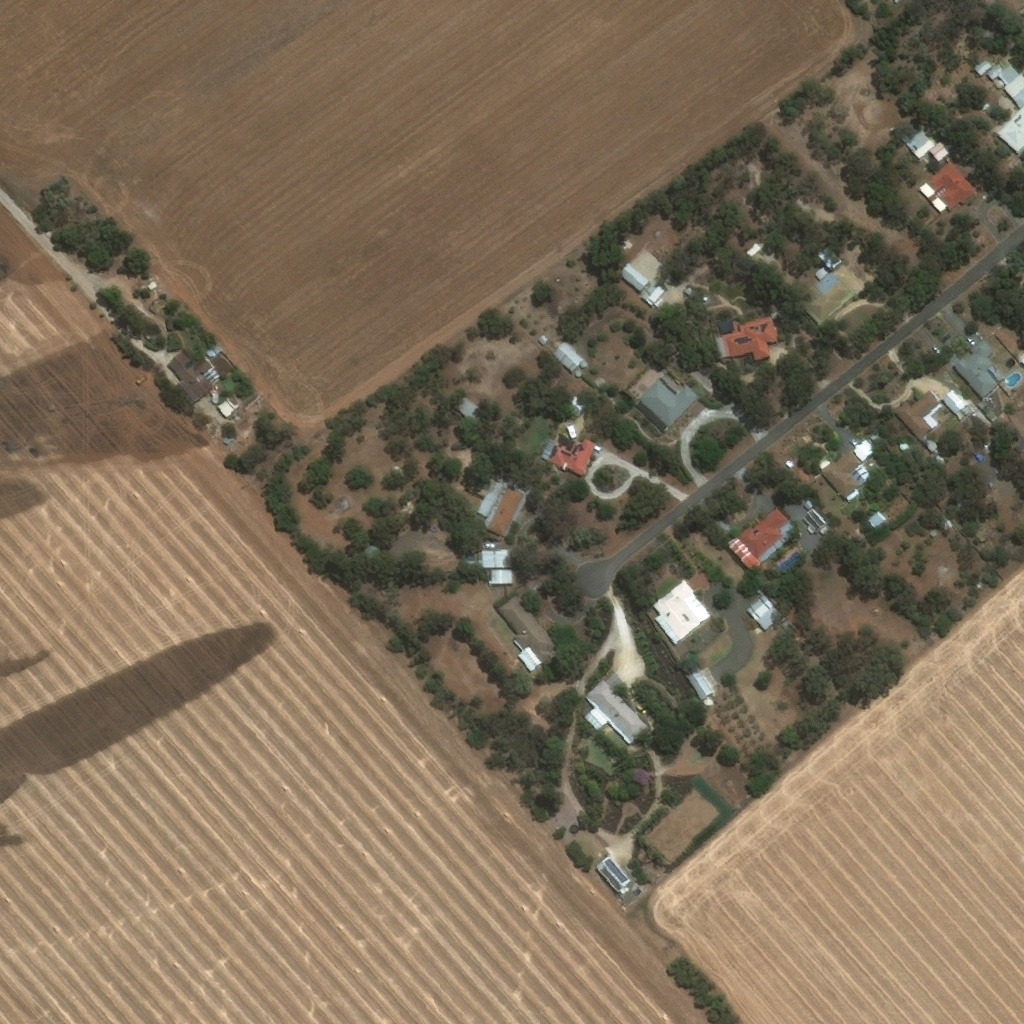0 no-damage: (497, 594, 559, 674), (581, 680, 650, 746), (798, 261, 865, 326), (633, 372, 699, 435), (651, 580, 711, 646), (737, 509, 797, 564), (951, 341, 1002, 401), (167, 353, 220, 409), (924, 161, 977, 212), (892, 391, 943, 441), (723, 318, 778, 362), (819, 451, 862, 503), (546, 439, 595, 478), (487, 488, 523, 539), (595, 855, 632, 896), (745, 595, 783, 633), (995, 107, 1023, 155), (550, 342, 584, 374), (725, 538, 759, 570), (940, 390, 972, 423), (904, 130, 936, 161), (686, 667, 715, 701), (617, 263, 649, 292), (640, 282, 667, 308), (1003, 75, 1023, 110), (800, 509, 826, 534), (478, 551, 509, 569), (452, 397, 475, 419), (214, 398, 237, 419), (1000, 65, 1020, 87), (487, 570, 511, 587), (929, 142, 948, 163), (713, 336, 730, 359), (866, 511, 886, 529), (972, 60, 993, 77), (985, 63, 1003, 80), (565, 423, 579, 438), (537, 336, 548, 347), (802, 502, 811, 511), (205, 350, 214, 359), (574, 370, 581, 378), (805, 528, 813, 535), (579, 363, 586, 369)
4 un-classified: (944, 565, 951, 572)
